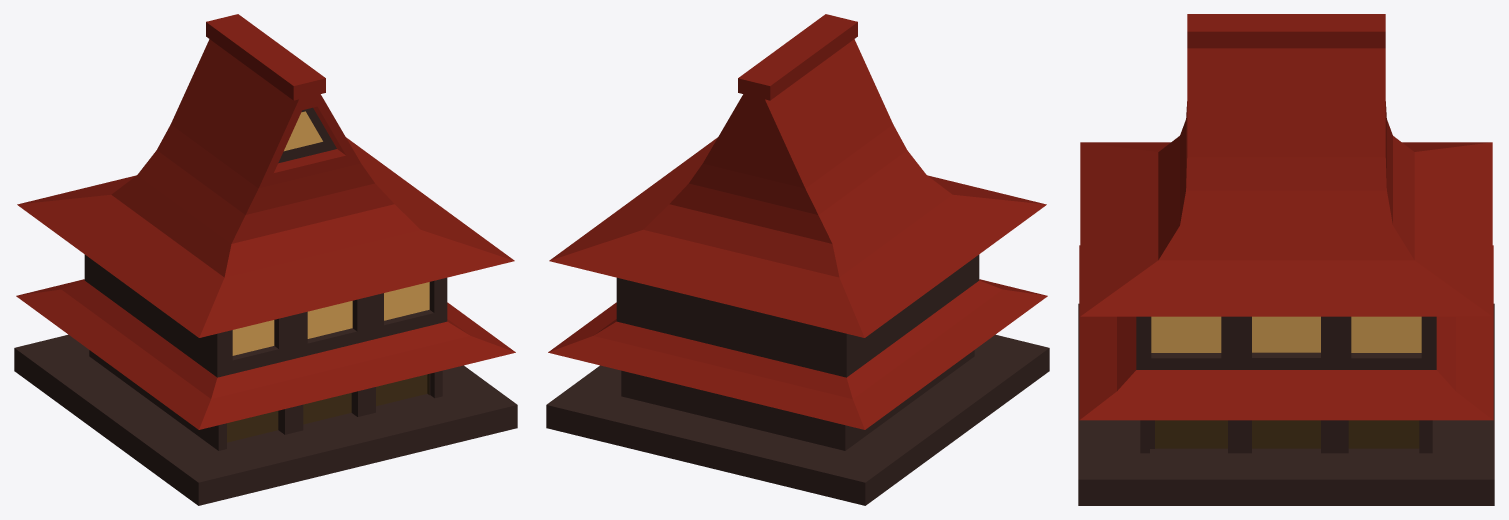
File: hut.fbx
3 views of the same model, side by side, from view 1: azimuth 30°, elevation 25°; view 2: azimuth 150°, elevation 25°; view 3: azimuth 270°, elevation 25° (orthographic). The views are drawn at different scales.
Parts seen in each view (by area): view 1: Cube.003; view 2: Cube.003; view 3: Cube.003.
Part boxes in pixels (left/top/right/bottom): Cube.003: left=14, top=14, right=517, bottom=505; Cube.003: left=546, top=14, right=1049, bottom=505; Cube.003: left=1078, top=14, right=1494, bottom=505.
Bounding box in the file's own units: 273 × 285 × 273.
